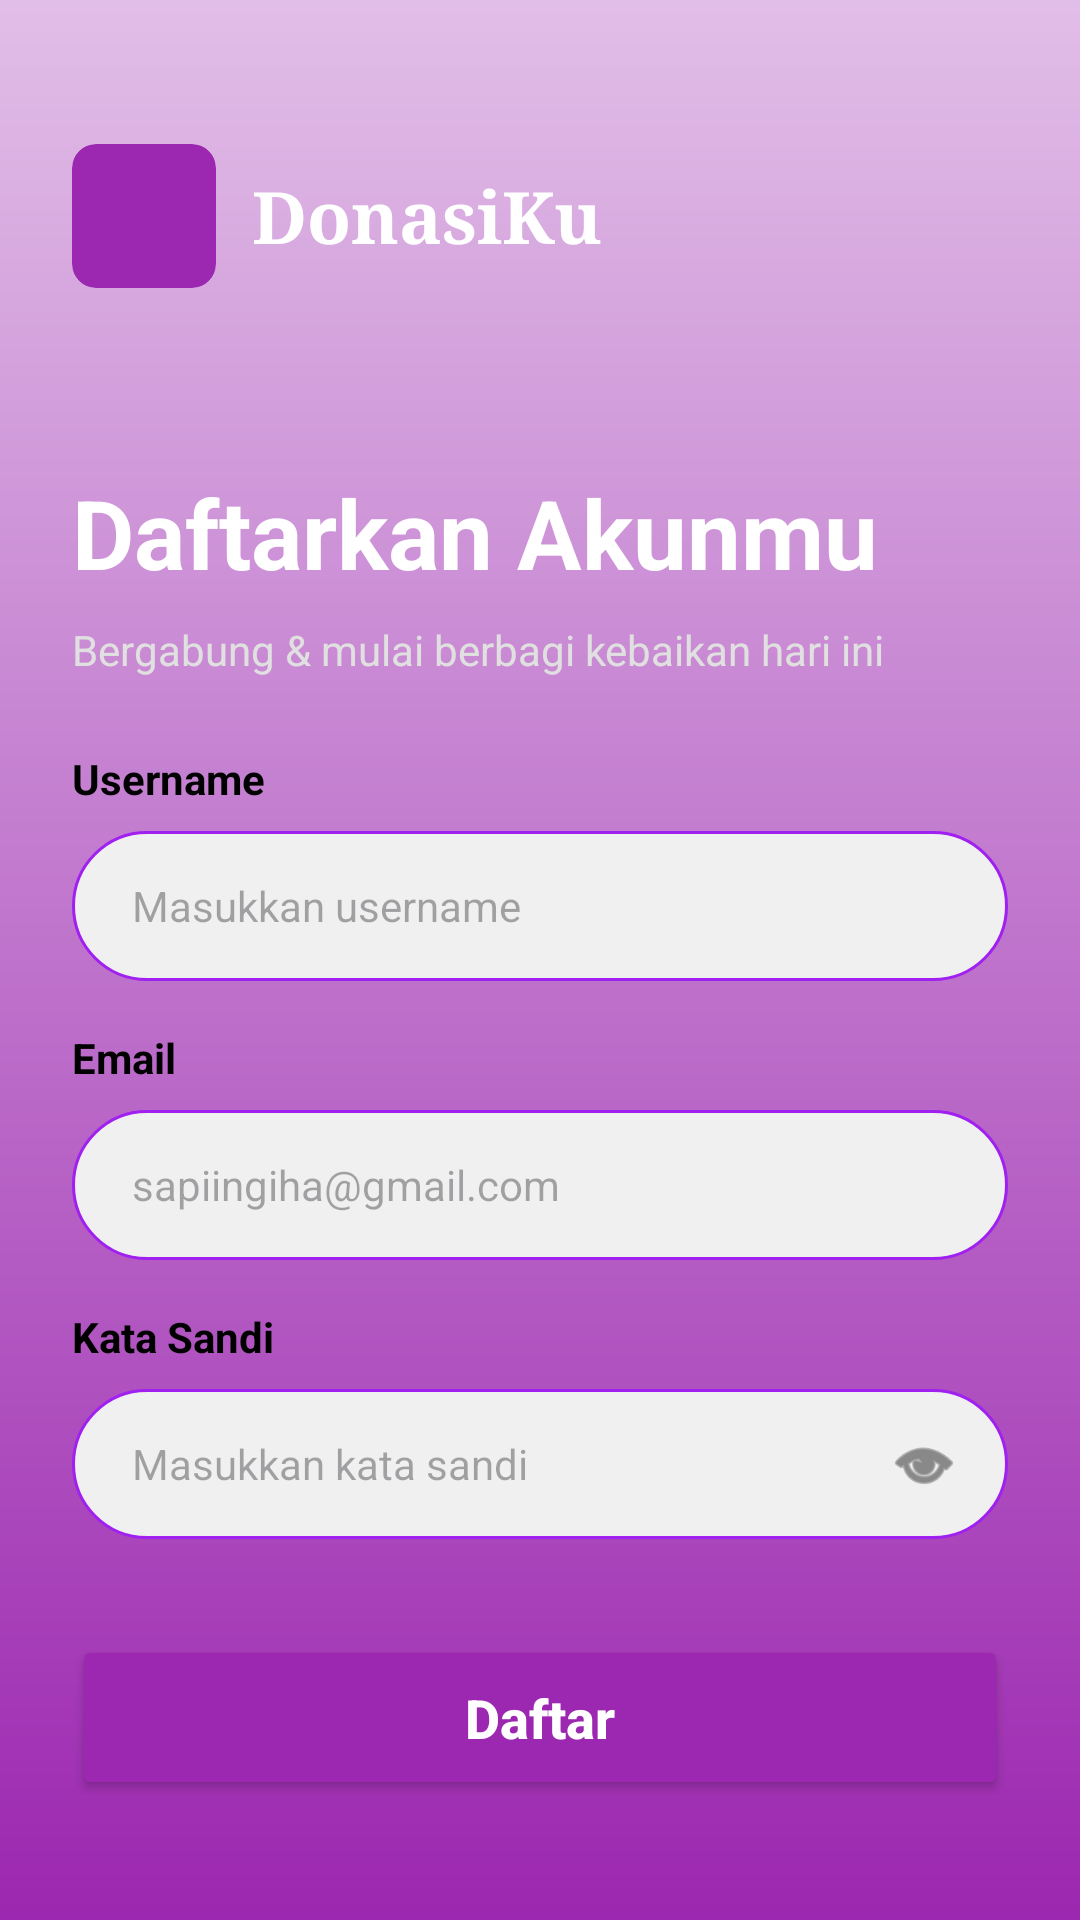

Named icons in this screenshot (1080px x 1920px) and their centers, (x,y):
Toggle Password Visibility: (924,1465)
